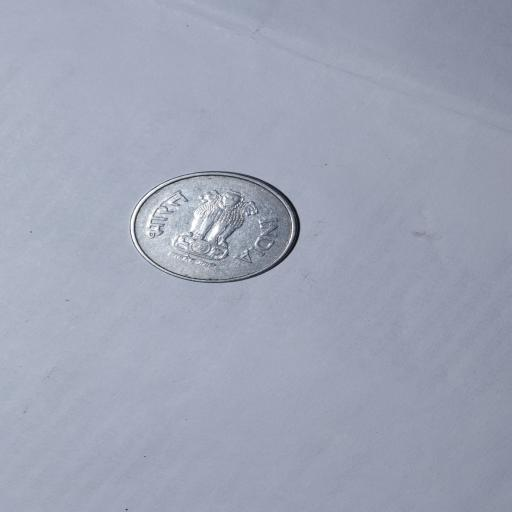rupee1: (127, 170, 300, 284)
